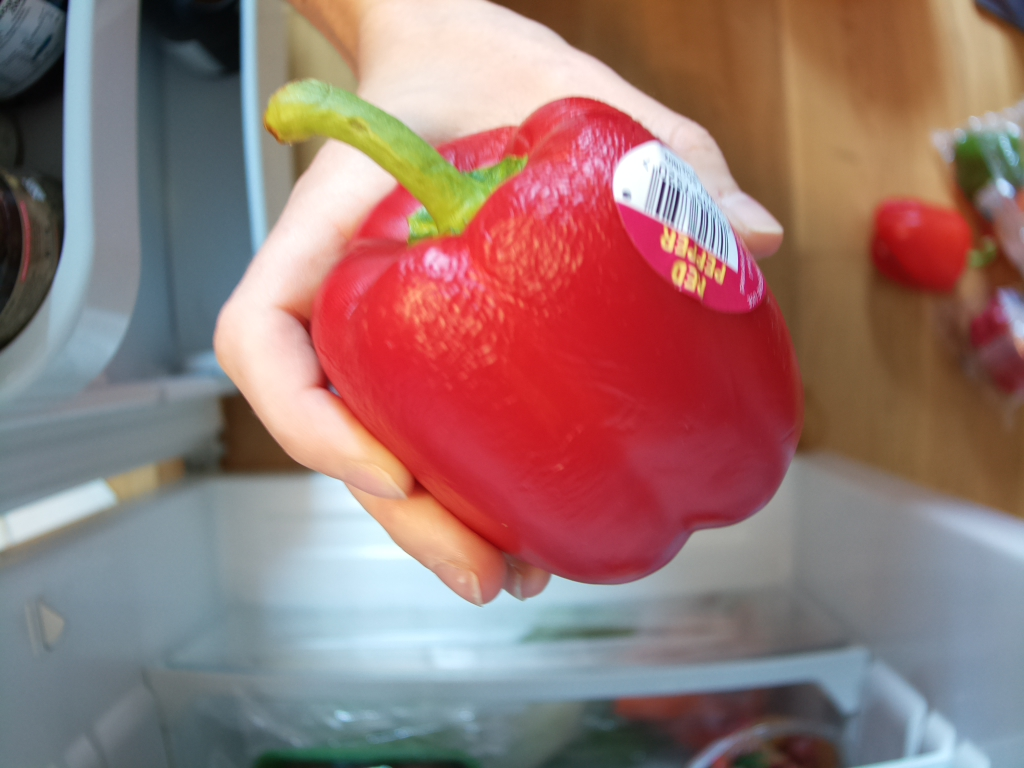pepper-bad: (241, 67, 822, 576)
